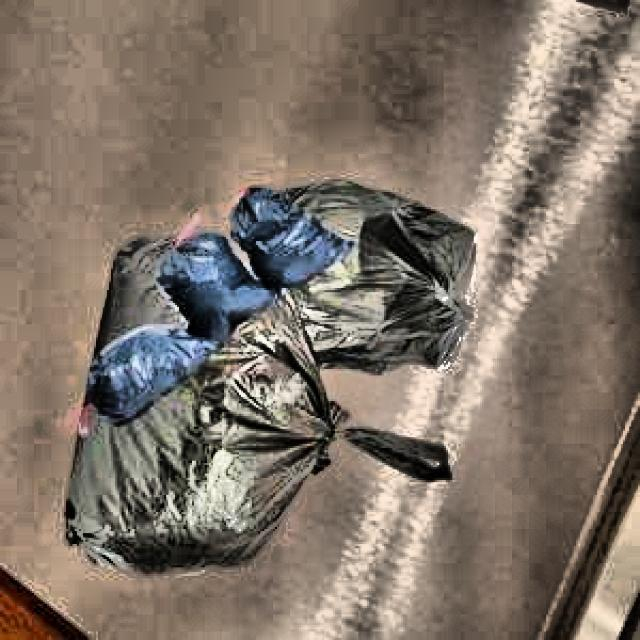Trashbag: (90, 322, 211, 429), (160, 231, 267, 339), (244, 183, 342, 289)
